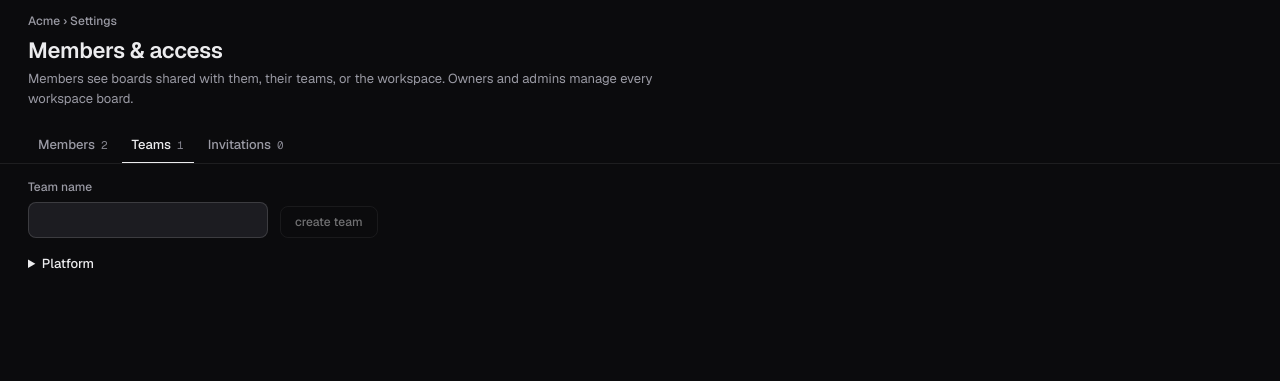
Test: members and access › opens the tab its link names, and the invite button moves to invitations
Expected: the tab "Teams 1" is shown, [122,128,194,164]
Click the tab "Members 2" at (73, 146), box [28,128,118,164]
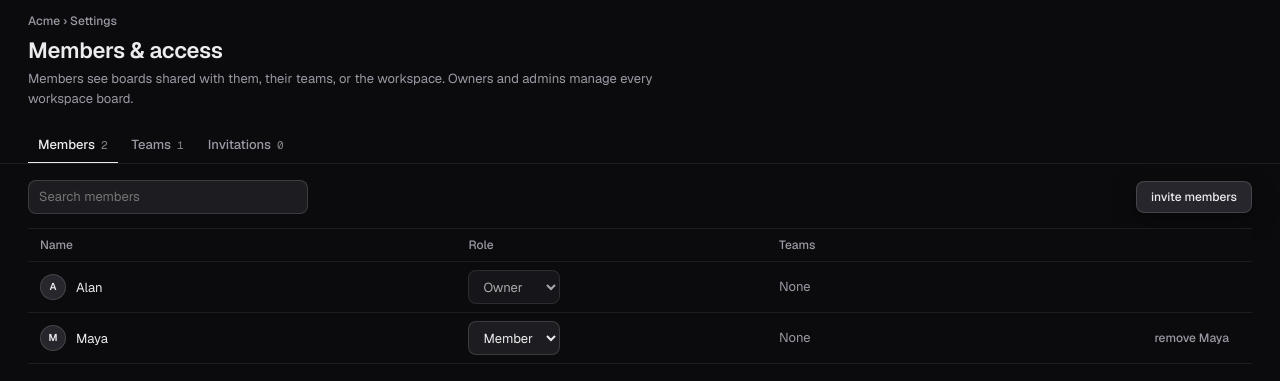
Click the button "invite members" at (1194, 197), box [1136,181,1252,213]
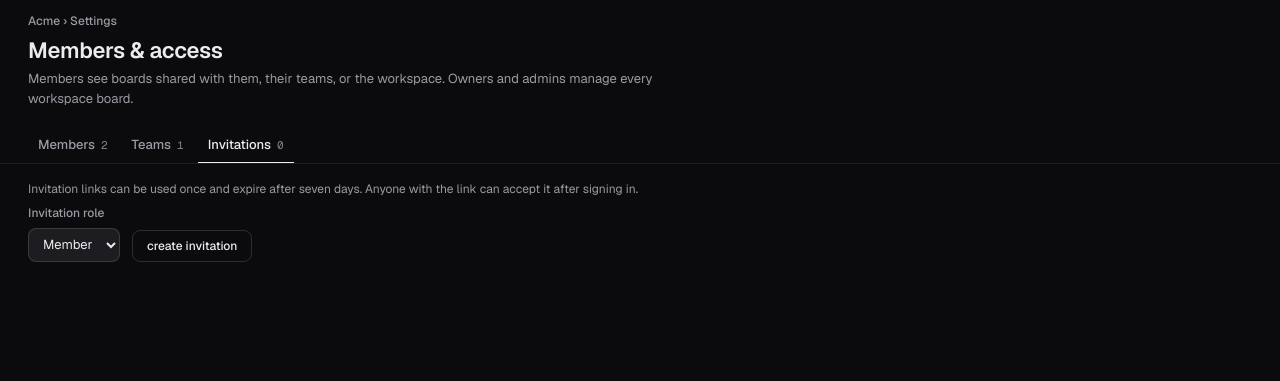
Expected: the tab "Invitations 0" is shown, [198,128,294,164]
Now the button "create invitation" is shown, box [132,230,252,262]
